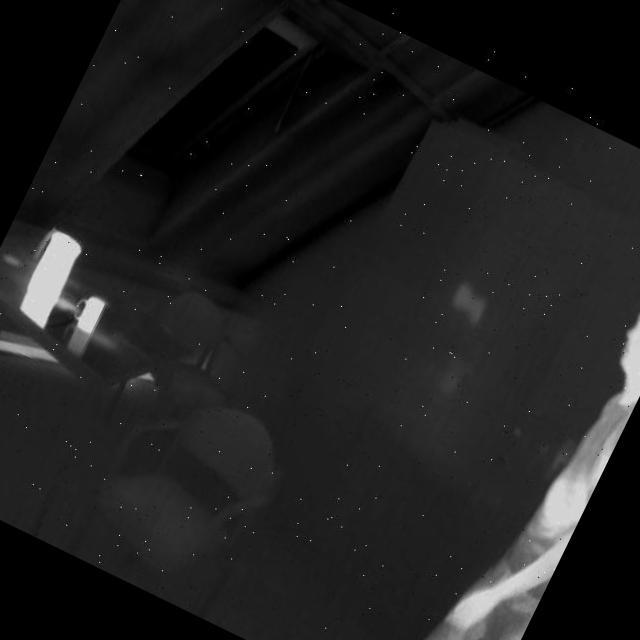person: (346, 239, 640, 640)
